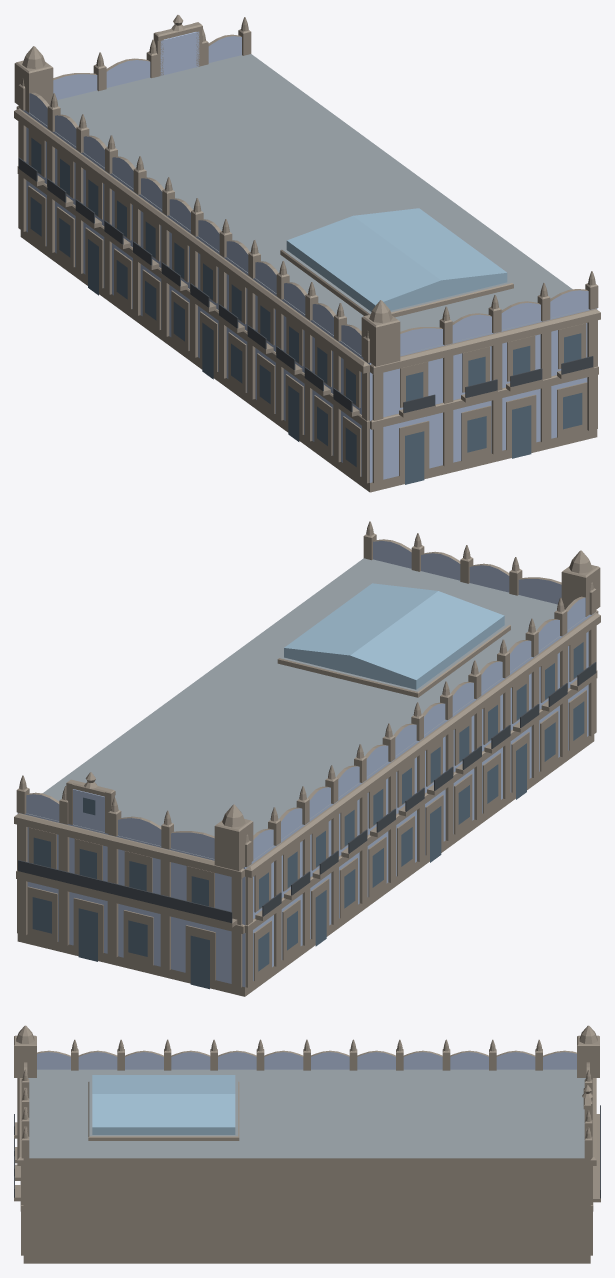
File: mexico-city-casa-de-los-azulejos.glb
The picture shows the model from 3 angles, top to bottom: view 1: azimuth 30°, elevation 25°; view 2: azimuth 150°, elevation 25°; view 3: azimuth 270°, elevation 25°; orthographic projection. The views are drawn at different scales.
Visible parts, largest first — view 1: Casa de los Azulejos; view 2: Casa de los Azulejos; view 3: Casa de los Azulejos.
Boxes of the visible parts, <box> form: Casa de los Azulejos: <box>14,15,600,492</box>; Casa de los Azulejos: <box>14,521,600,996</box>; Casa de los Azulejos: <box>14,1025,600,1263</box>.
Bounding box in the file's own units: 23.3 × 17.7 × 61.5.
